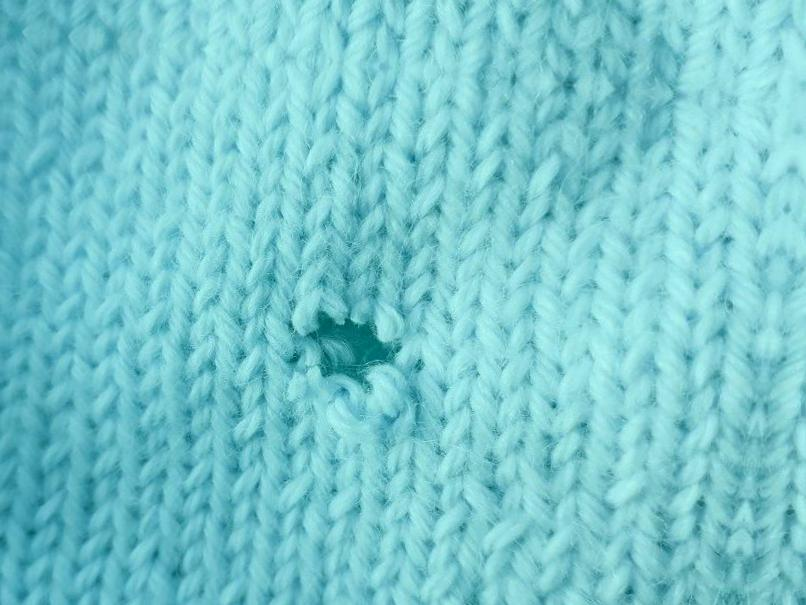hole: (287, 298, 414, 413)
